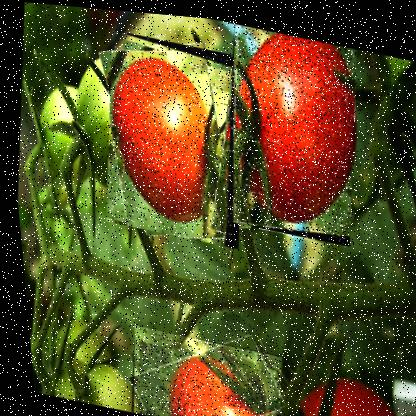tomato: (88, 25, 259, 246), (209, 17, 371, 242), (116, 320, 284, 415)
